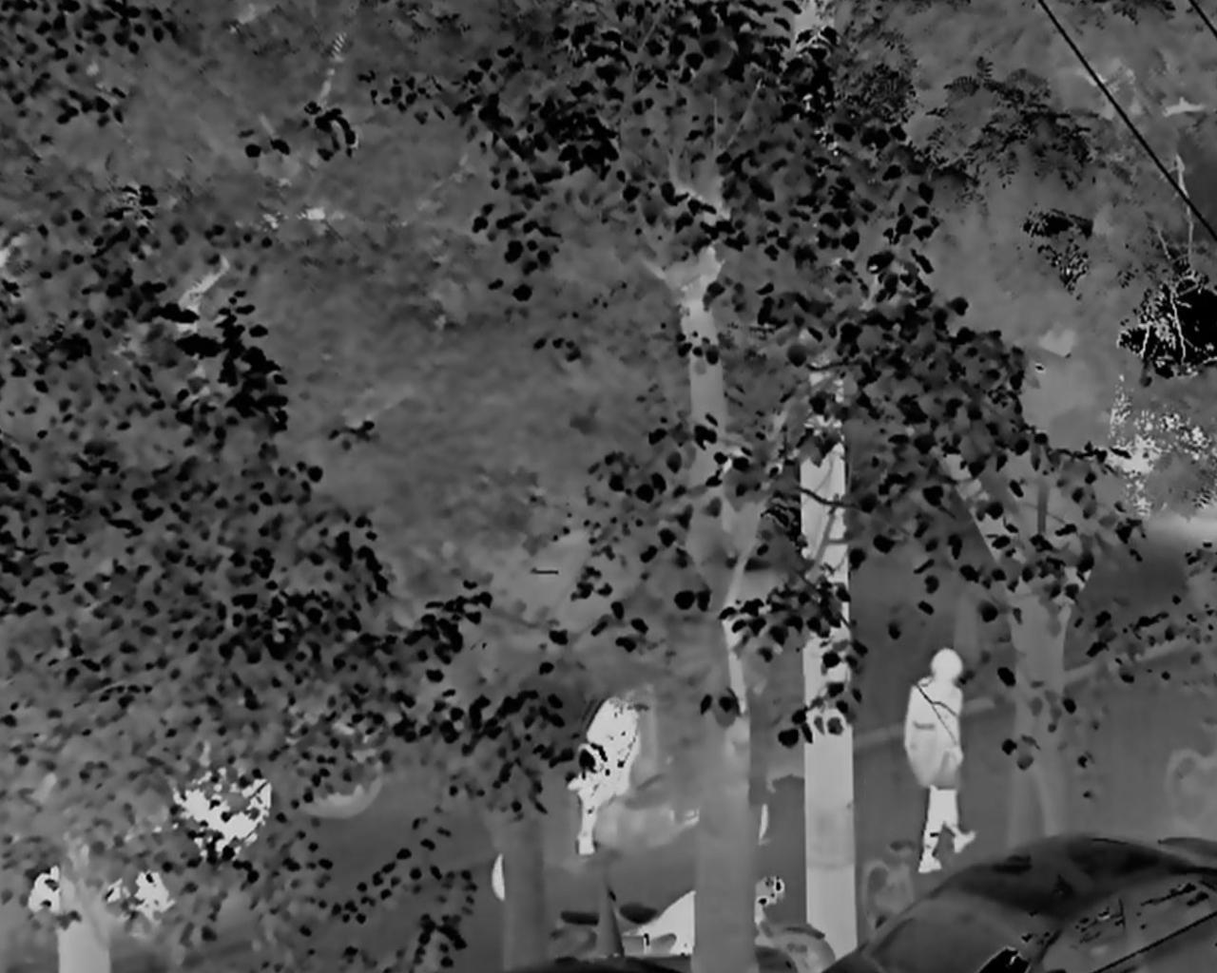person: (900, 648, 978, 872), (569, 694, 644, 860)
